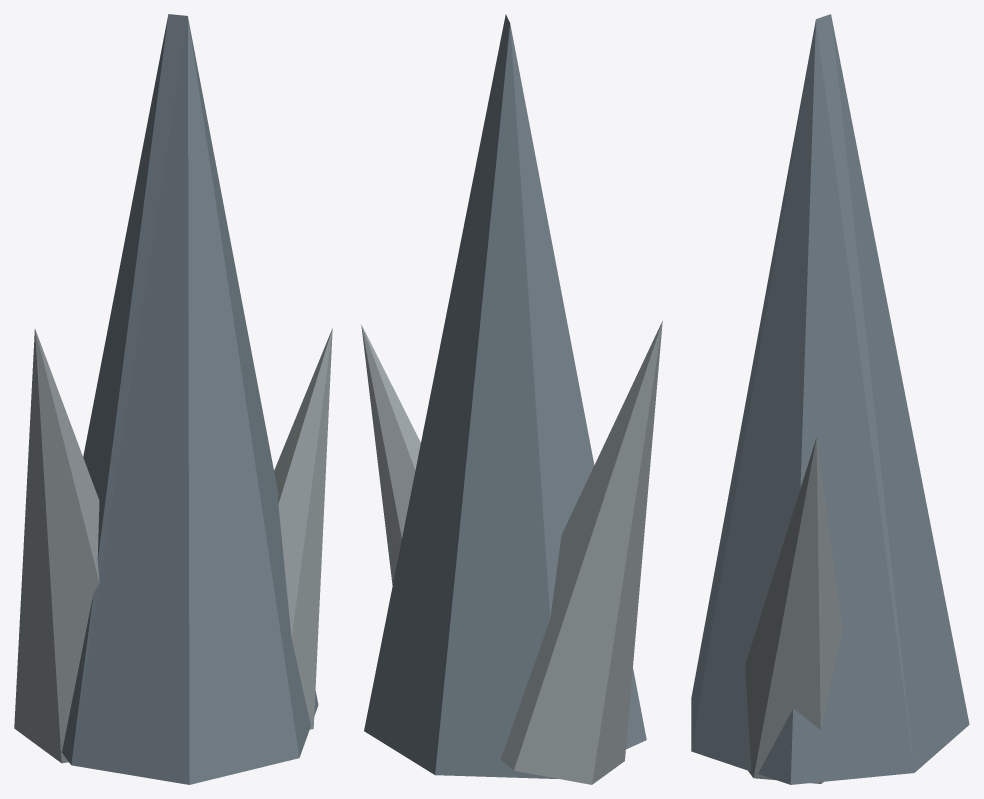
Rendered from Landmark_01_LOD1.fbx.
3 renders of one model, left to right at view 1: azimuth 30°, elevation 25°; view 2: azimuth 150°, elevation 25°; view 3: azimuth 270°, elevation 25°, orthographic.
Parts seen in each view (by area): view 1: Landmark_01_LOD1; view 2: Landmark_01_LOD1; view 3: Landmark_01_LOD1.
Part boxes in pixels (x1,y1,x2,y2): Landmark_01_LOD1: [14, 14, 332, 784]; Landmark_01_LOD1: [361, 14, 662, 784]; Landmark_01_LOD1: [691, 14, 969, 784].
Bounding box in the file's own units: 213 × 488 × 171.
